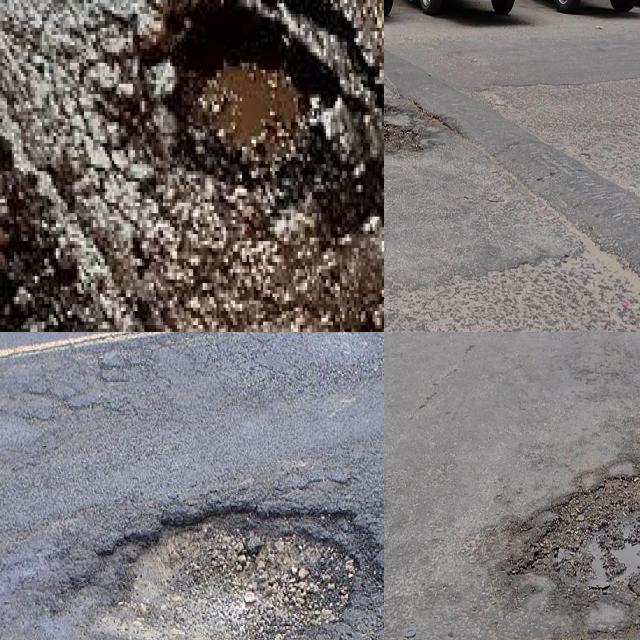Pothole: (73, 0, 384, 279), (0, 511, 361, 640), (117, 520, 357, 640), (521, 470, 640, 598), (384, 99, 420, 152)
